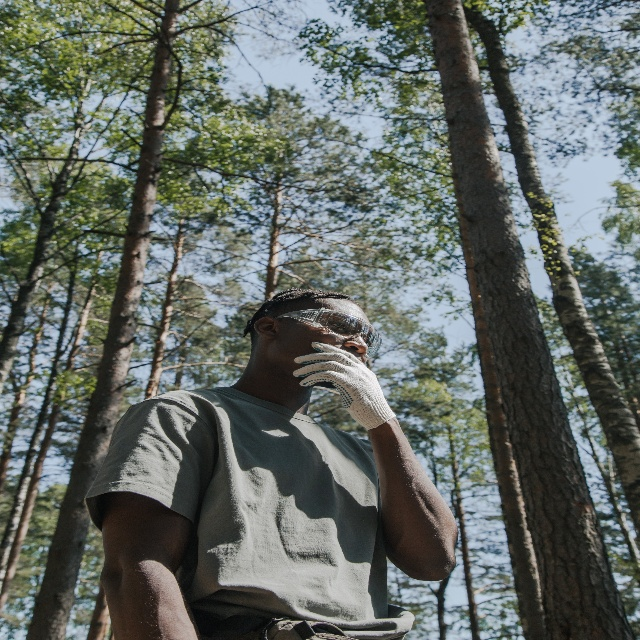Gafas: (273, 308, 382, 363)
Guantes: (292, 340, 384, 425)
